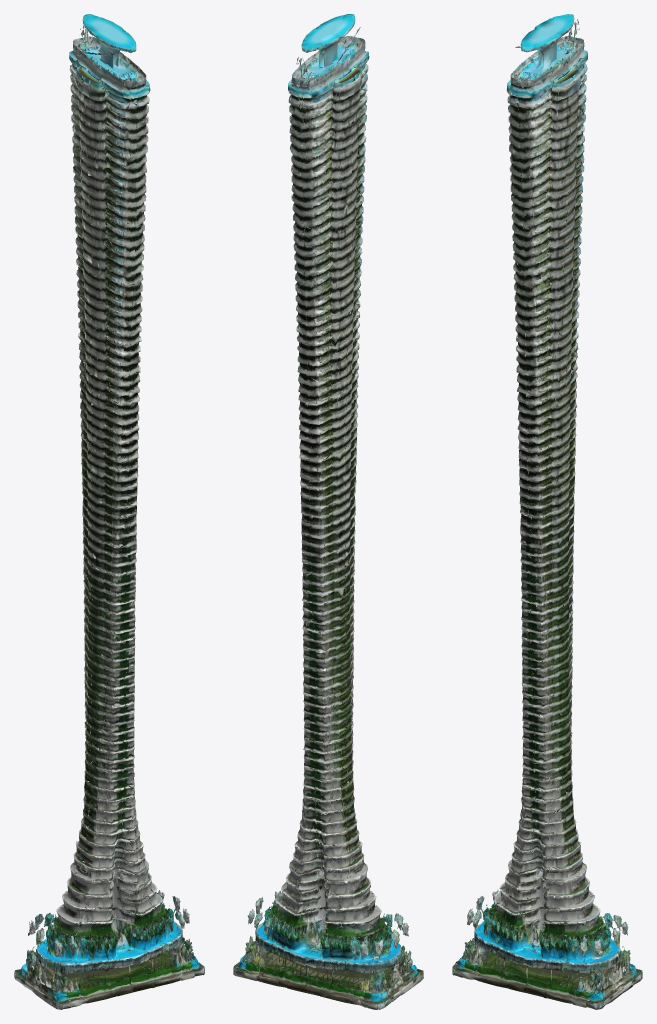
File: como-residences.glb
The picture shows the model from 3 angles, left to right: view 1: azimuth 30°, elevation 25°; view 2: azimuth 150°, elevation 25°; view 3: azimuth 330°, elevation 25°; orthographic projection.
Visible parts, largest first — view 1: Mesh_0; view 2: Mesh_0; view 3: Mesh_0.
Boxes of the visible parts, x1=… form: Mesh_0: x1=14, y1=14, x2=204, y2=1009; Mesh_0: x1=233, y1=14, x2=423, y2=1009; Mesh_0: x1=452, y1=14, x2=642, y2=1009.
Bounding box in the file's own units: 50 × 300 × 35.
Materials: 1 (1 with a texture image).
